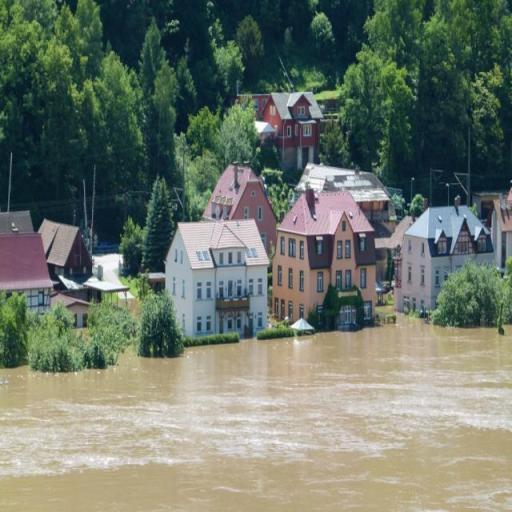flood: (0, 315, 512, 512)
house: (272, 157, 398, 333), (164, 212, 276, 342), (397, 200, 487, 318), (204, 164, 278, 223), (2, 211, 48, 297), (276, 92, 324, 154), (42, 218, 91, 276), (483, 188, 512, 258), (50, 294, 91, 329)
